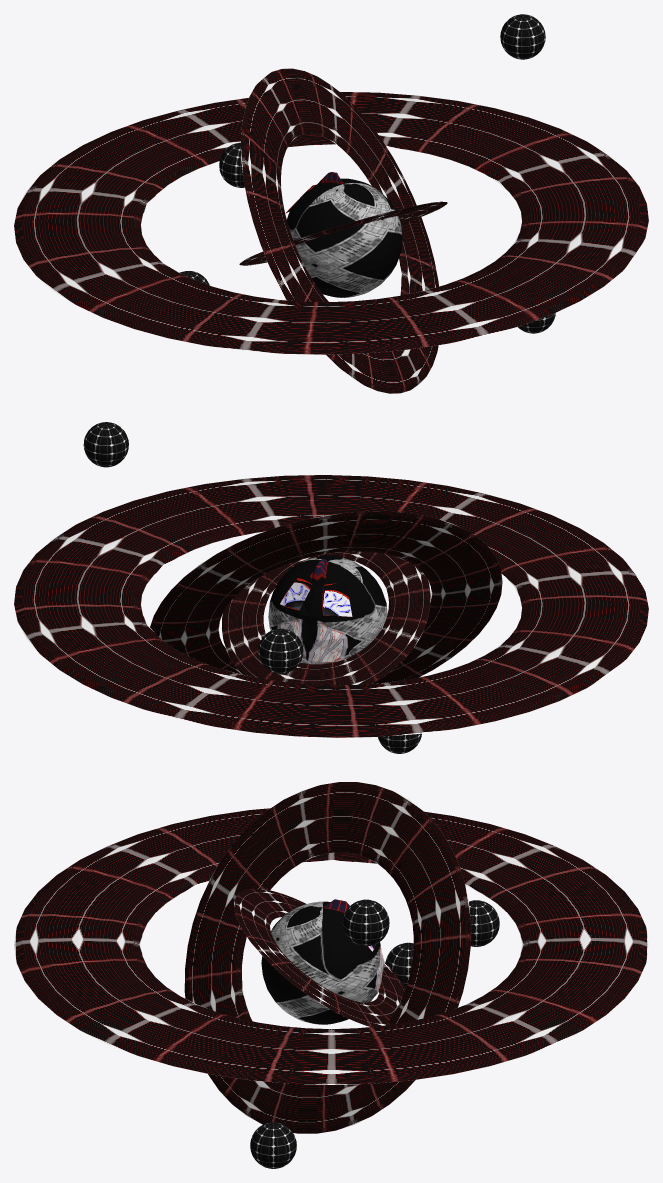
The model's file is Enemy9.gltf.
The picture shows the model from 3 angles, top to bottom: view 1: azimuth 30°, elevation 25°; view 2: azimuth 150°, elevation 25°; view 3: azimuth 270°, elevation 25°; orthographic projection. The views are drawn at different scales.
Visible parts, largest first — view 1: Torus, Torus2, Sphere, Sphere1, Torus1, Sphere2; view 2: Torus, Torus2, Torus1, Sphere, Sphere2, Sphere1, Sphere4; view 3: Torus, Torus2, Sphere, Torus1, Sphere1, Sphere3, Sphere2, Sphere4.
Part boxes in pixels (bbox=[...]): Torus: bbox=[14, 92, 648, 354]; Torus2: bbox=[241, 68, 438, 393]; Sphere: bbox=[285, 172, 402, 297]; Sphere1: bbox=[500, 14, 545, 59]; Torus1: bbox=[239, 201, 447, 265]; Sphere2: bbox=[219, 142, 244, 187]; Torus: bbox=[14, 475, 648, 737]; Torus2: bbox=[150, 511, 502, 683]; Torus1: bbox=[221, 551, 430, 685]; Sphere: bbox=[268, 555, 387, 664]; Sphere2: bbox=[258, 628, 303, 673]; Sphere1: bbox=[83, 422, 128, 467]; Sphere4: bbox=[378, 733, 421, 753]; Torus: bbox=[14, 808, 648, 1084]; Torus2: bbox=[184, 782, 470, 1133]; Sphere: bbox=[261, 899, 384, 1024]; Torus1: bbox=[234, 888, 405, 1026]; Sphere1: bbox=[343, 899, 389, 946]; Sphere3: bbox=[250, 1122, 296, 1168]; Sphere2: bbox=[469, 900, 499, 946]; Sphere4: bbox=[385, 942, 413, 987].
Size of the model in its own units: 3.21 by 1.59 by 3.08.
3 materials, 3 textured.
